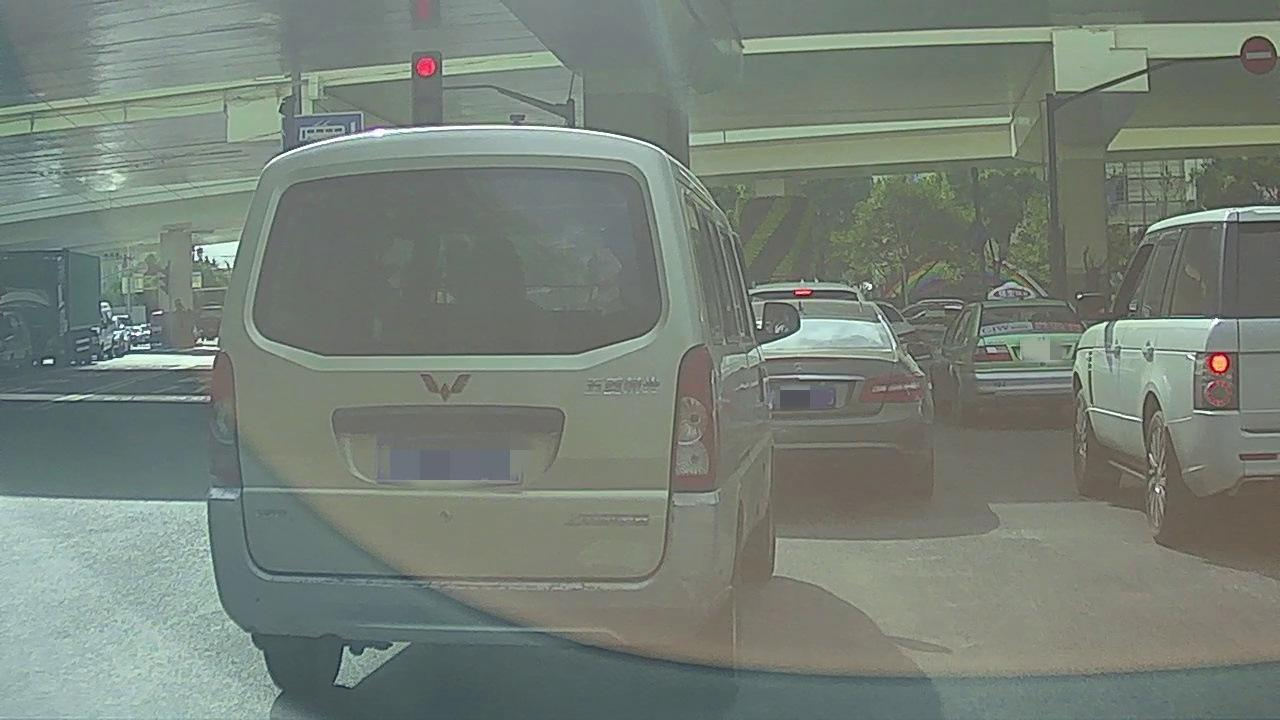traffic_light: (413, 48, 442, 126)
